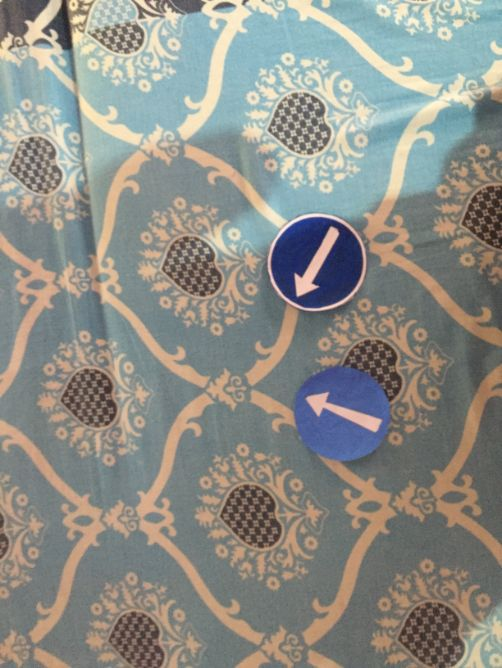keep-left: (269, 211, 372, 314), (293, 366, 387, 460)
